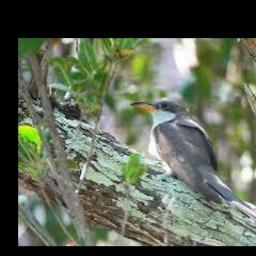Cuckoo: (131, 98, 256, 212)
